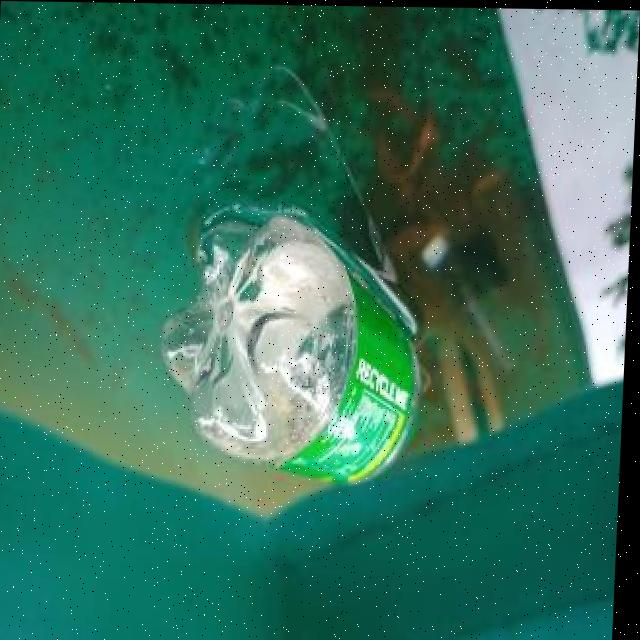bottle: (154, 206, 434, 493)
